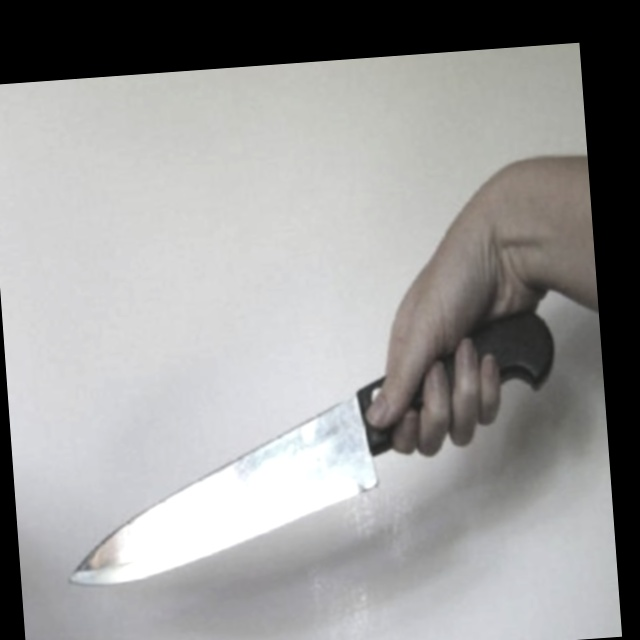Sharp-Object: (53, 311, 570, 589)
